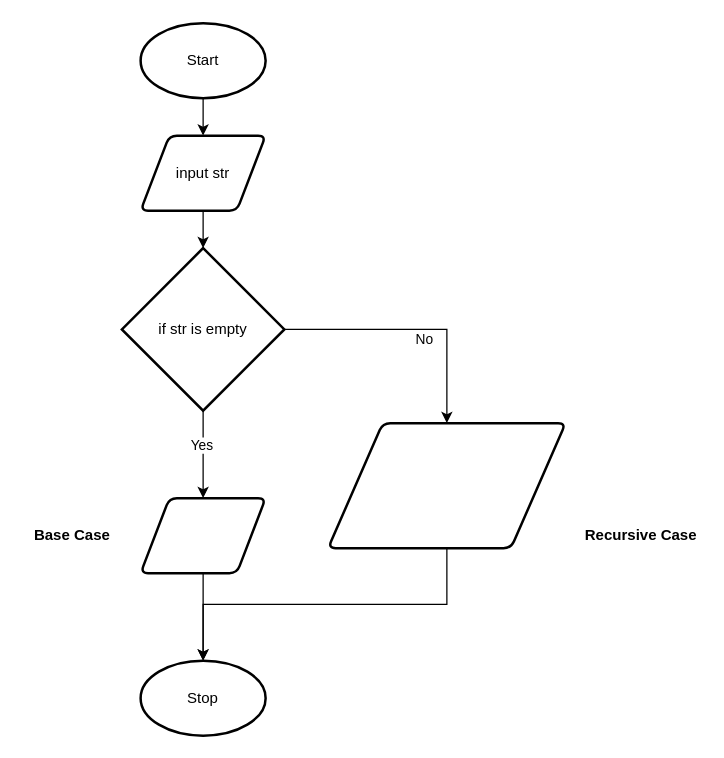
This 724x758 diagram has some shape labels left out. Each missing label, with the box of its shape:
return reverseString(str.slice(1)) + str.slice(0,1): (326, 421, 566, 549)
return str: (139, 496, 266, 574)
